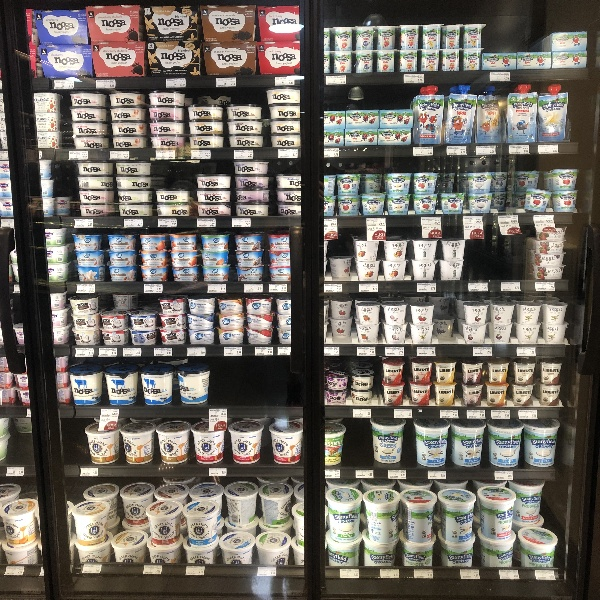void: (214, 357, 299, 408), (467, 229, 530, 284)
